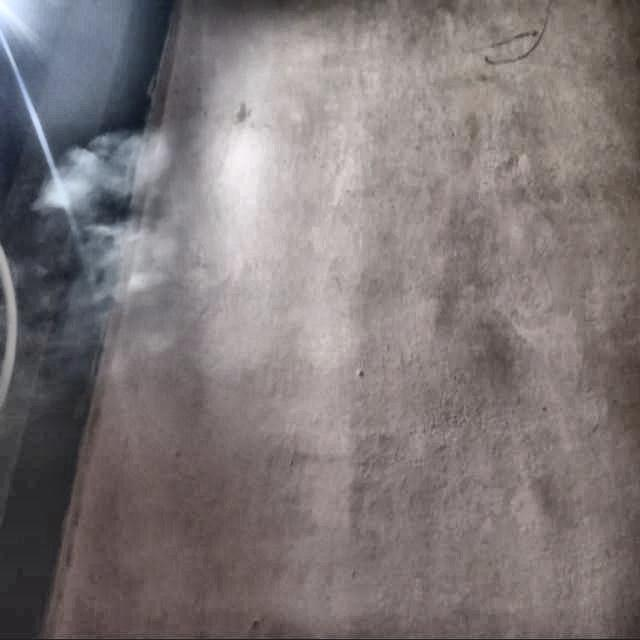smoke: (50, 112, 217, 320)
